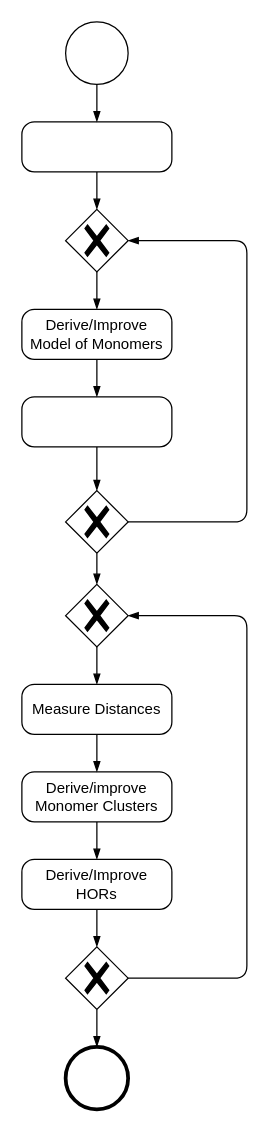
The diagram is 279 pixels wide and 1131 high, and some of its shapes have lost their labels. The box of each missing label's shape, as (x1, y1, x2, y2) in pixels:
Extract High Rep Blocks: (21, 121, 172, 172)
Extract Monomers: (21, 396, 172, 447)
